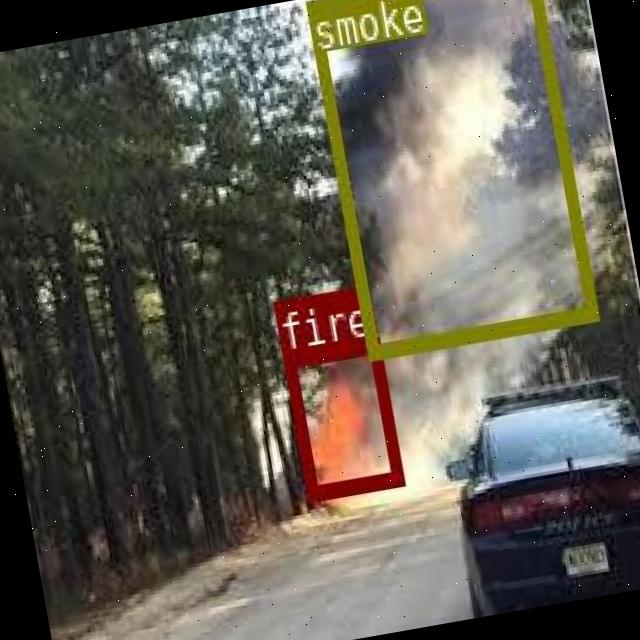fire: (282, 336, 402, 498)
smoke: (303, 0, 595, 357)
